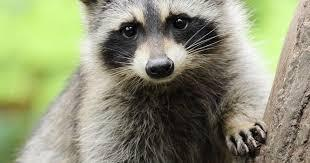raccoon: (0, 0, 286, 163)
